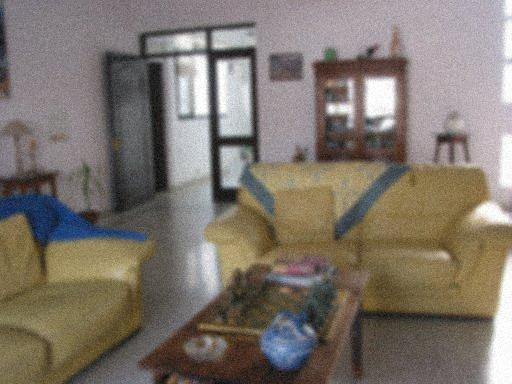Matera: (65, 156, 102, 227)
Puerta: (101, 51, 159, 208)
